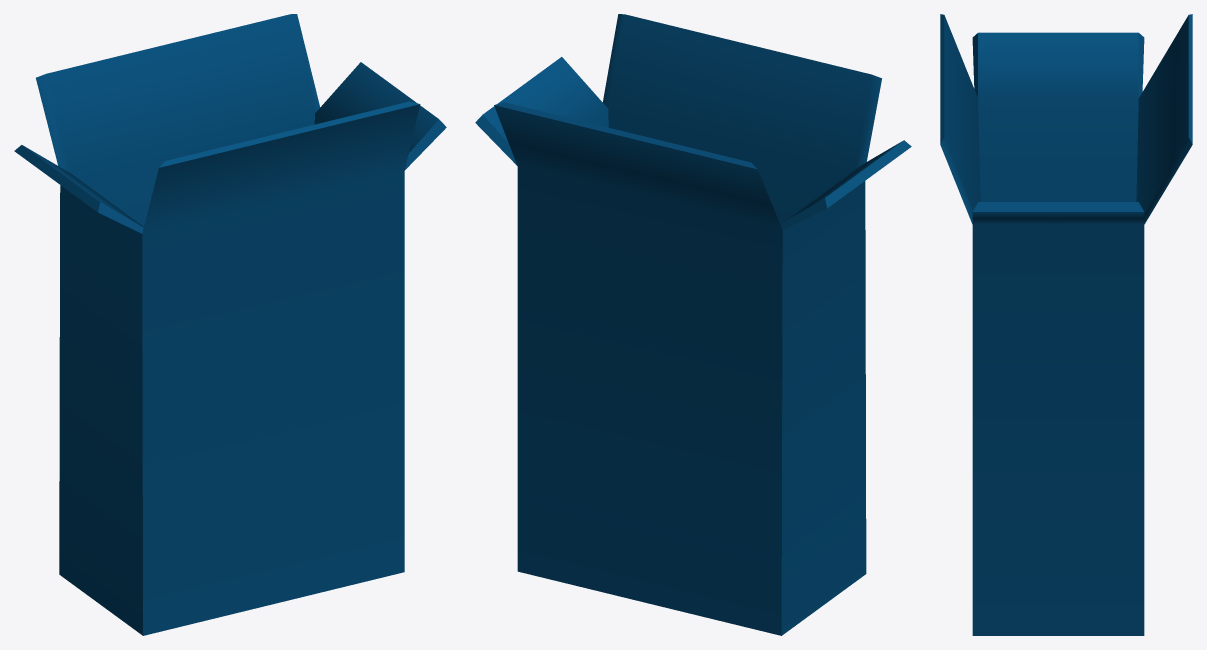
File: graham_box.fbx
3 views of the same model, side by side, from view 1: azimuth 30°, elevation 25°; view 2: azimuth 150°, elevation 25°; view 3: azimuth 270°, elevation 25° (orthographic). The views are drawn at different scales.
Visible parts, largest first — view 1: pCube1; view 2: pCube1; view 3: pCube1.
Boxes of the visible parts, bbox=[...] form: pCube1: bbox=[14, 14, 446, 635]; pCube1: bbox=[475, 14, 911, 635]; pCube1: bbox=[940, 14, 1192, 635].
Size of the model in its own units: 1.33 by 1.76 by 0.8161.
